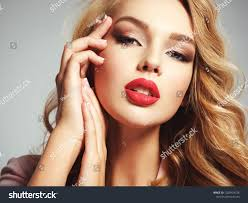white_female: (101, 1, 193, 136)
